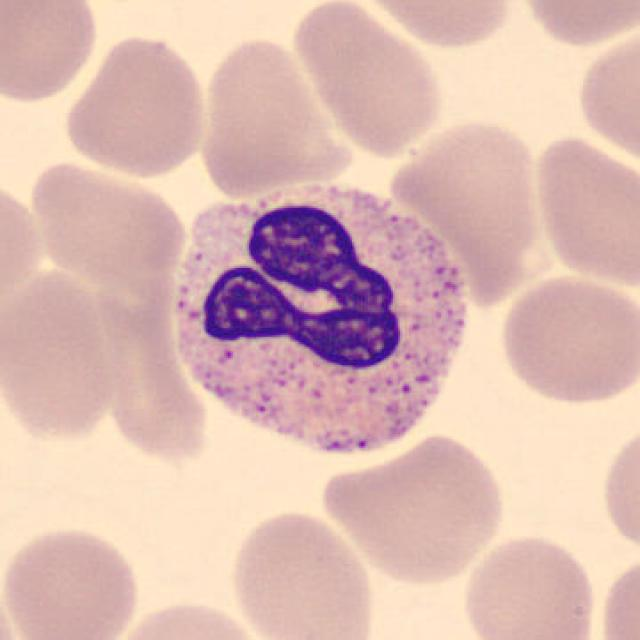Neutrophil: (158, 173, 478, 474)
RBC: (386, 111, 548, 303), (316, 429, 512, 587), (288, 0, 448, 159), (193, 30, 339, 199), (58, 30, 212, 180), (0, 263, 126, 446), (25, 157, 190, 286), (224, 504, 379, 640), (494, 272, 636, 408), (528, 130, 638, 291), (2, 522, 146, 640), (459, 529, 601, 640), (0, 0, 101, 106), (572, 21, 638, 169), (352, 0, 521, 51), (107, 594, 270, 640), (0, 174, 46, 316), (514, 0, 638, 51), (598, 418, 638, 561), (594, 548, 638, 640)
